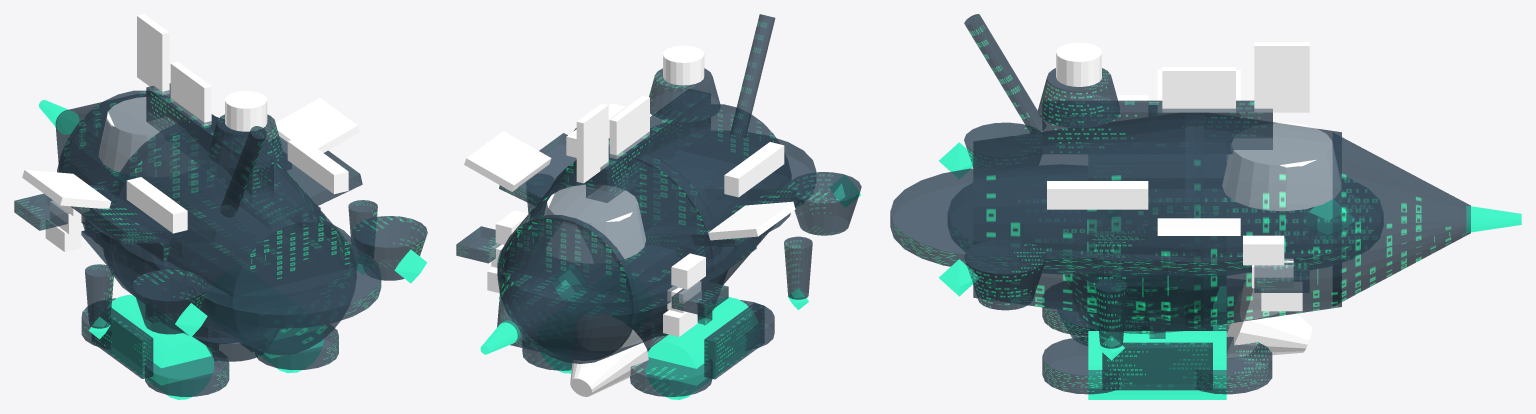
Rendered from colon.glb.
The picture shows the model from 3 angles, left to right: view 1: azimuth 30°, elevation 25°; view 2: azimuth 150°, elevation 25°; view 3: azimuth 270°, elevation 25°; orthographic projection. The views are drawn at different scales.
Visible parts, largest first — view 1: guerrier; view 2: guerrier; view 3: guerrier.
Boxes of the visible parts, left/top/right/bottom form: guerrier: left=14, top=14, right=427, bottom=399; guerrier: left=456, top=14, right=861, bottom=399; guerrier: left=890, top=14, right=1521, bottom=399.
Bounding box in the file's own units: 0.8197 × 0.7962 × 1.37.
